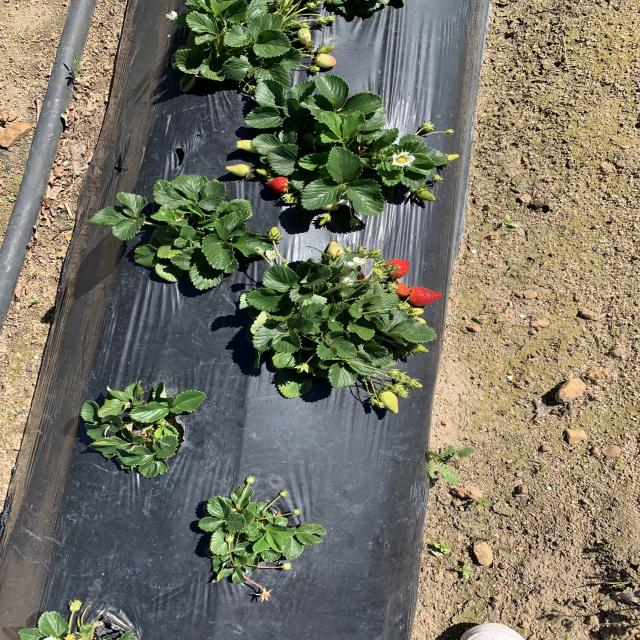unripe: (409, 285, 443, 307), (382, 257, 412, 279), (387, 280, 413, 297), (268, 176, 291, 193)
